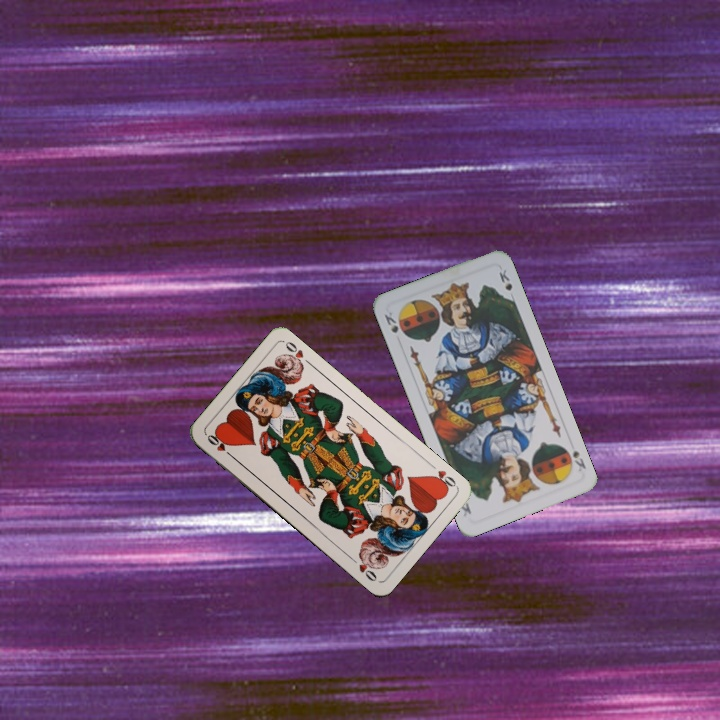HO: (425, 459, 459, 493), (203, 430, 237, 461)
SK: (560, 442, 588, 474), (380, 308, 401, 336)
